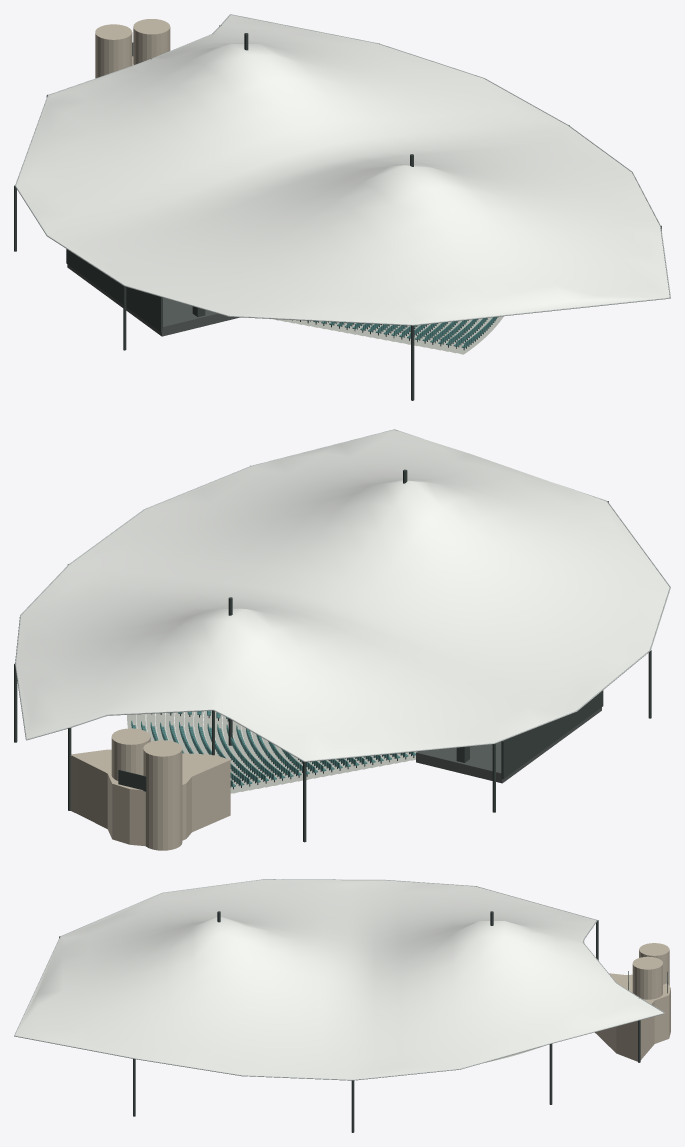
The model's file is aretha-amphitheatre.glb.
3 views of the same model, one above another, from view 1: azimuth 30°, elevation 25°; view 2: azimuth 150°, elevation 25°; view 3: azimuth 270°, elevation 25° (orthographic). The views are drawn at different scales.
Parts seen in each view (by area): view 1: OSM 60624913 twin-peak tensile canopy, Canopy steel support, OSM 105519122 pavilion, Perimeter tension cable, Seating terrace, Theatre seat, Waterfront stage; view 2: OSM 60624913 twin-peak tensile canopy, OSM 105519122 pavilion, Canopy steel support, Seating terrace, Theatre seat, Perimeter tension cable, Waterfront stage; view 3: OSM 60624913 twin-peak tensile canopy, OSM 105519122 pavilion, Perimeter tension cable, Canopy steel support.
Boxes of the visible parts, bbox=[...] form: OSM 60624913 twin-peak tensile canopy: bbox=[16, 15, 669, 324]; Canopy steel support: bbox=[14, 25, 661, 400]; OSM 105519122 pavilion: bbox=[95, 19, 170, 78]; Perimeter tension cable: bbox=[15, 14, 670, 325]; Seating terrace: bbox=[270, 316, 503, 354]; Theatre seat: bbox=[307, 317, 497, 348]; Waterfront stage: bbox=[67, 264, 240, 336]; OSM 60624913 twin-peak tensile canopy: bbox=[16, 430, 669, 760]; OSM 105519122 pavilion: bbox=[70, 728, 230, 850]; Canopy steel support: bbox=[14, 465, 651, 842]; Seating terrace: bbox=[127, 711, 416, 793]; Theatre seat: bbox=[131, 711, 415, 786]; Perimeter tension cable: bbox=[15, 429, 670, 761]; Waterfront stage: bbox=[416, 707, 601, 783]; OSM 60624913 twin-peak tensile canopy: bbox=[15, 879, 663, 1079]; OSM 105519122 pavilion: bbox=[595, 943, 670, 1061]; Perimeter tension cable: bbox=[14, 879, 664, 1080]; Canopy steel support: bbox=[59, 911, 667, 1132].
Bounding box in the file's own units: 73.75 × 21.2 × 101.
